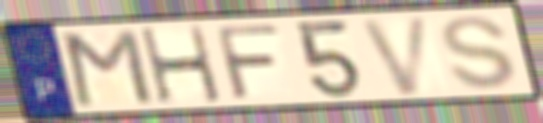5: (290, 19, 364, 100)
F: (211, 23, 284, 102)
H: (135, 23, 226, 107)
M: (60, 26, 157, 109)
S: (438, 14, 520, 92)
V: (355, 12, 434, 98)
